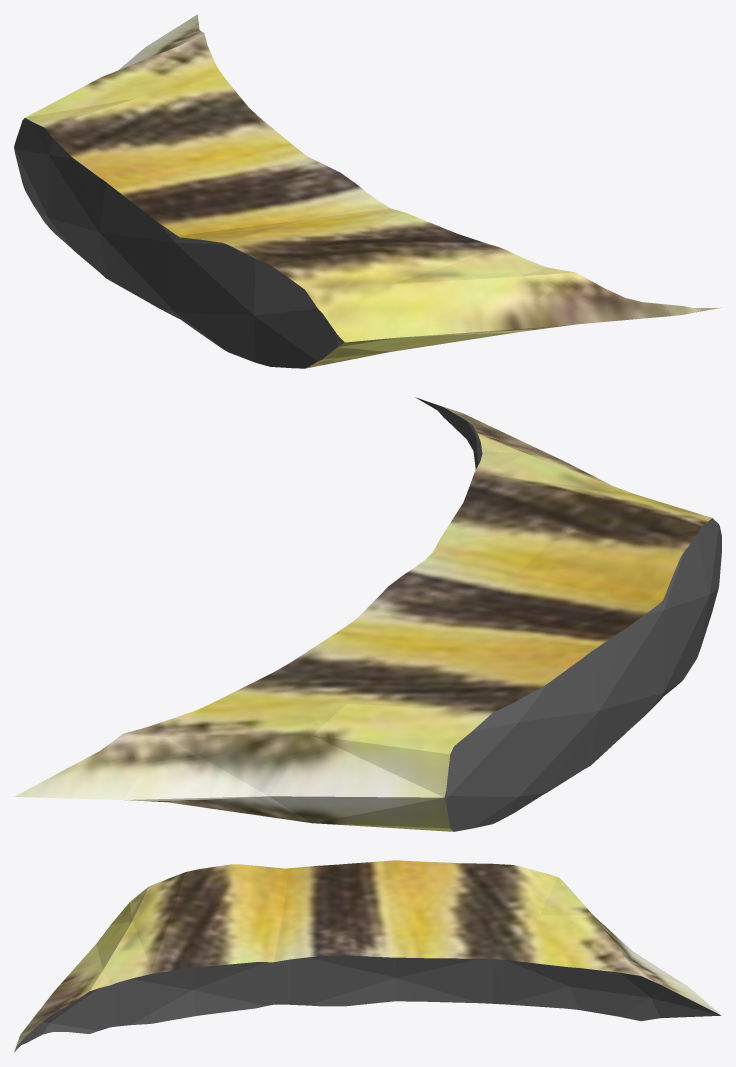
File: link_14_composite.obj
3 views of the same model, one above another, from view 1: azimuth 30°, elevation 25°; view 2: azimuth 150°, elevation 25°; view 3: azimuth 270°, elevation 25° (orthographic). The views are drawn at different scales.
Visible parts, largest first — view 1: joint_13; view 2: joint_13; view 3: joint_13.
Part boxes in pixels (x1,y1,x2,y2): joint_13: (14, 14, 721, 368); joint_13: (14, 397, 721, 831); joint_13: (14, 860, 721, 1052).
Size of the model in its own units: 0.00192 by 0.000506 by 0.00369.
Materials: 1 (1 with a texture image).
